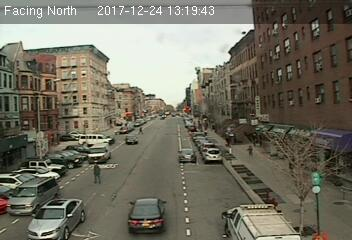car: (26, 197, 85, 239), (6, 177, 64, 217), (126, 196, 170, 234), (175, 148, 198, 163), (202, 147, 222, 161), (123, 134, 139, 145)
pedestrian: (91, 163, 103, 185)
truck: (221, 200, 298, 240)
